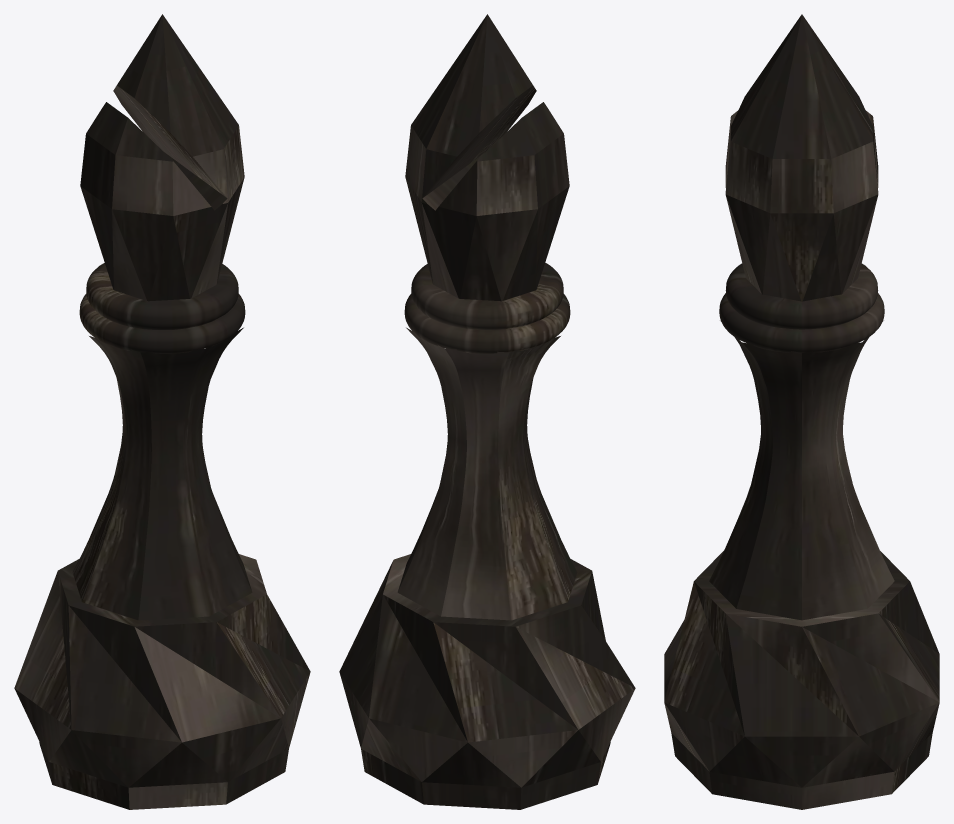
Rendered from lithoxyl_bishop_black.glb.
The picture shows the model from 3 angles, left to right: view 1: azimuth 30°, elevation 25°; view 2: azimuth 150°, elevation 25°; view 3: azimuth 270°, elevation 25°; orthographic projection.
Visible parts, largest first — view 1: Lithoxyl_Bishop_Onyx; view 2: Lithoxyl_Bishop_Onyx; view 3: Lithoxyl_Bishop_Onyx.
Part boxes in pixels (x1=…): Lithoxyl_Bishop_Onyx: x1=14, y1=14, x2=310, y2=809; Lithoxyl_Bishop_Onyx: x1=339, y1=14, x2=635, y2=809; Lithoxyl_Bishop_Onyx: x1=664, y1=14, x2=939, y2=809.
Size of the model in its own units: 0.0252 by 0.075 by 0.0252.
1 material, 1 textured.
